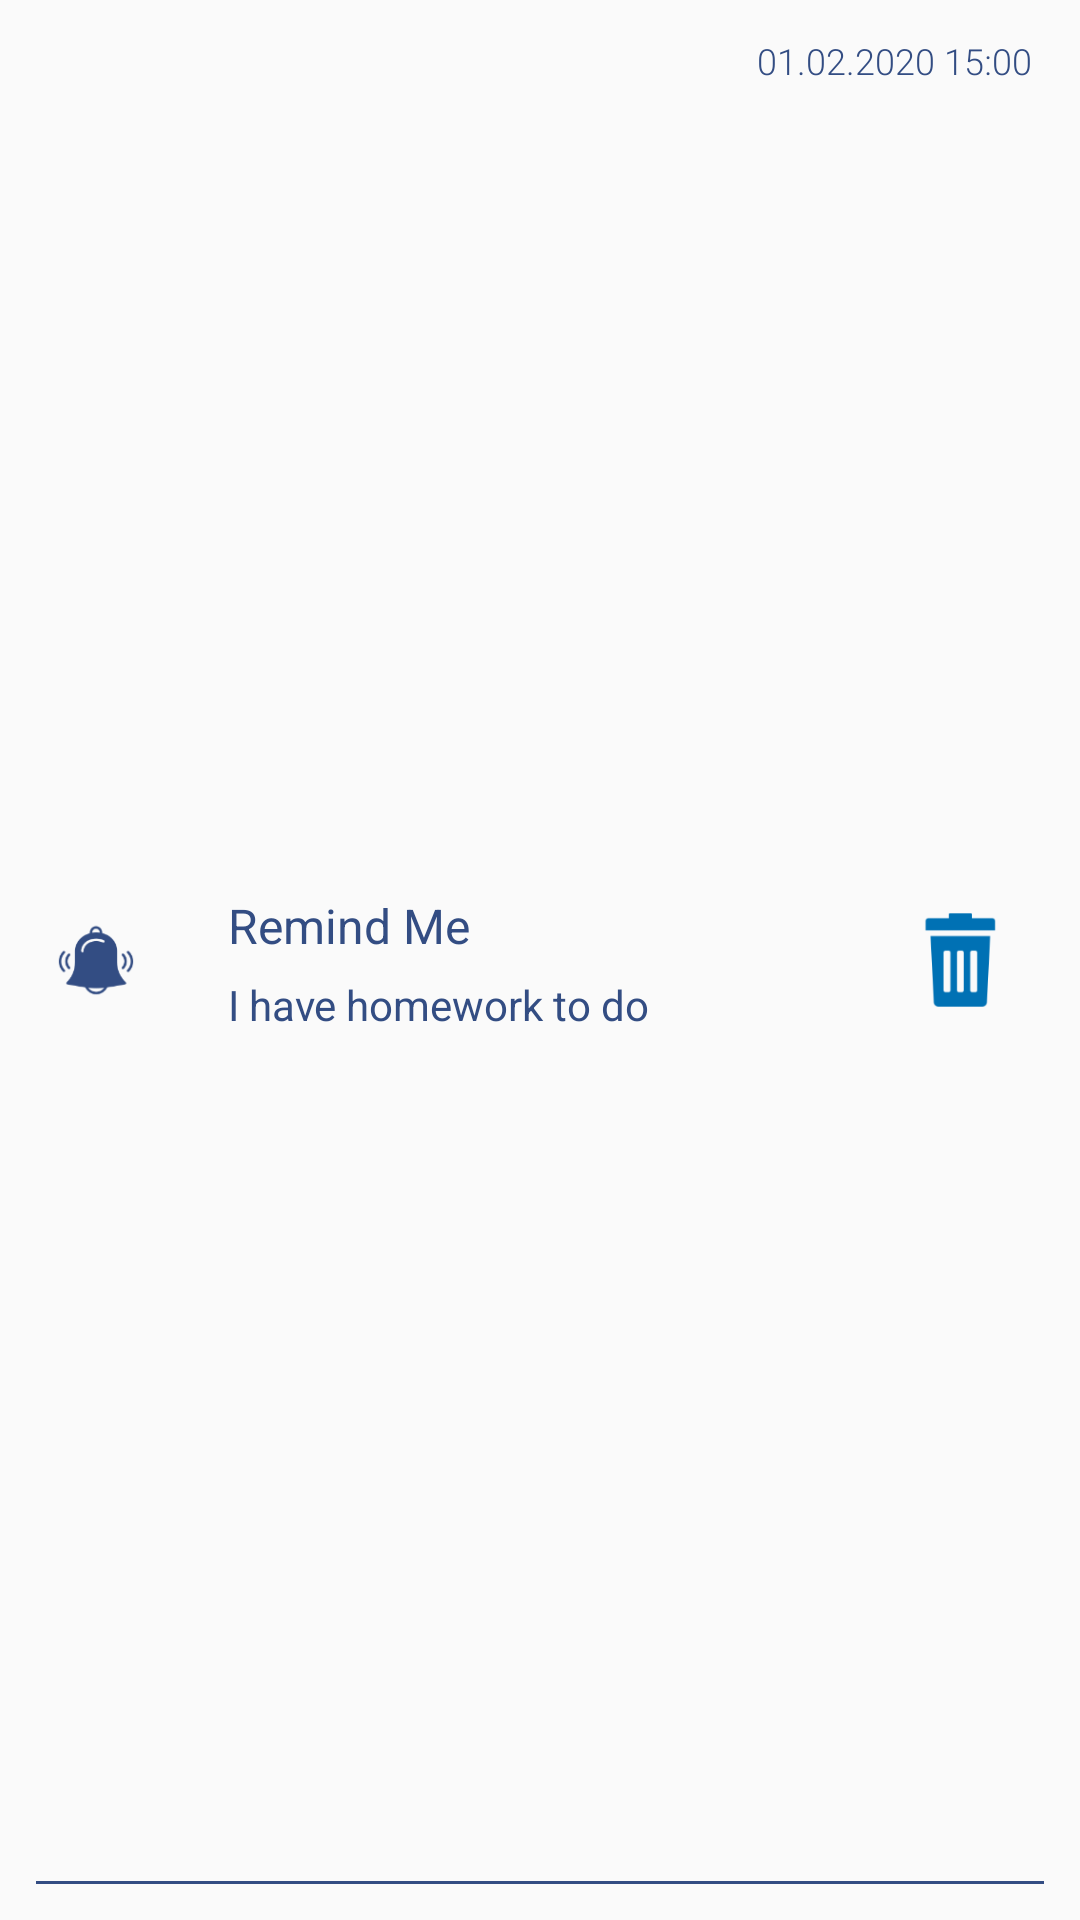

Icon bounding boxes for this 1080px×1920px phone screenshot, format (x1, y1, x2, y2):
alarm: (59, 926, 134, 995)
garbage: (925, 913, 996, 1007)
